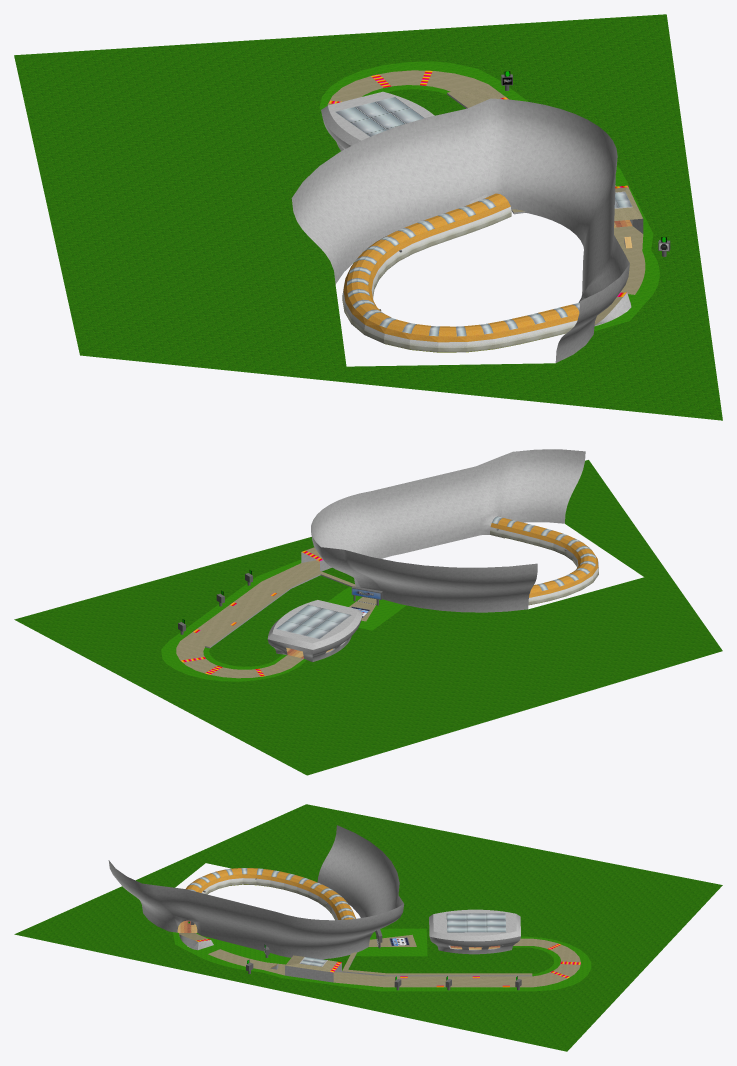
3 renders of one model, top to bottom at view 1: azimuth 30°, elevation 25°; view 2: azimuth 150°, elevation 25°; view 3: azimuth 270°, elevation 25°, orthographic. The views are drawn at different scales.
Visible parts, largest first — view 1: course-SKP--outgrass, course-SKP--outsidemallwall, course-SKP--mallwall, course-SKP--road.001, course-SKP--glass, course-SKP--grass.002, course-SKP--metalwall; view 2: course-SKP--outgrass, course-SKP--outsidemallwall, course-SKP--road.001, course-SKP--grass.002, course-SKP--glass, course-SKP--mallwall, course-SKP--metalwall; view 3: course-SKP--outgrass, course-SKP--outsidemallwall, course-SKP--road.001, course-SKP--grass.002, course-SKP--glass, course-SKP--mallwall, course-SKP--metalwall, course-SKP--arrowpole.
Part boxes in pixels (left/top/right/bottom): course-SKP--outgrass: left=14, top=14, right=722, bottom=420; course-SKP--outsidemallwall: left=291, top=91, right=643, bottom=362; course-SKP--mallwall: left=343, top=193, right=579, bottom=342; course-SKP--road.001: left=327, top=70, right=645, bottom=324; course-SKP--glass: left=335, top=97, right=632, bottom=336; course-SKP--grass.002: left=319, top=61, right=659, bottom=331; course-SKP--metalwall: left=342, top=206, right=577, bottom=352; course-SKP--outgrass: left=14, top=460, right=722, bottom=775; course-SKP--outsidemallwall: left=205, top=449, right=585, bottom=661; course-SKP--road.001: left=176, top=547, right=376, bottom=678; course-SKP--grass.002: left=161, top=559, right=406, bottom=681; course-SKP--glass: left=276, top=516, right=595, bottom=638; course-SKP--mallwall: left=490, top=518, right=598, bottom=597; course-SKP--metalwall: left=490, top=527, right=598, bottom=605; course-SKP--outgrass: left=14, top=804, right=722, bottom=1051; course-SKP--outsidemallwall: left=108, top=825, right=532, bottom=982; course-SKP--road.001: left=179, top=933, right=580, bottom=987; course-SKP--grass.002: left=172, top=928, right=591, bottom=991; course-SKP--glass: left=187, top=868, right=505, bottom=966; course-SKP--mallwall: left=186, top=868, right=355, bottom=919; course-SKP--metalwall: left=202, top=878, right=337, bottom=920; course-SKP--arrowpole: left=190, top=878, right=521, bottom=990.
Size of what is drawn, in the model's own units: 119907 by 11972 by 145097.
19 materials, 19 textured.
